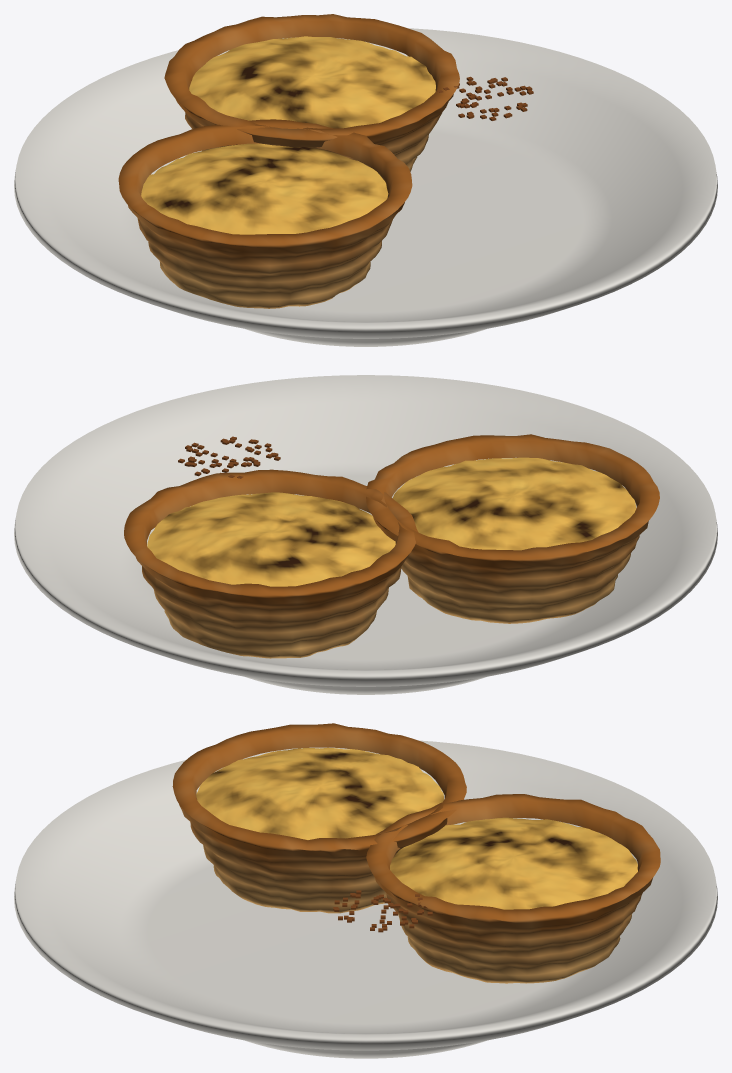
File: pasteis-de-nata.glb
3 renders of one model, top to bottom at view 1: azimuth 30°, elevation 25°; view 2: azimuth 150°, elevation 25°; view 3: azimuth 270°, elevation 25°, orthographic.
Parts seen in each view (by area): view 1: pasteis-de-nata; view 2: pasteis-de-nata; view 3: pasteis-de-nata.
Boxes of the visible parts, x1,y1,x2,y2 form: pasteis-de-nata: (14,14,717,346); pasteis-de-nata: (14,375,717,694); pasteis-de-nata: (14,723,717,1058).
Size of the model in its own units: 0.17 by 0.0354 by 0.17.
